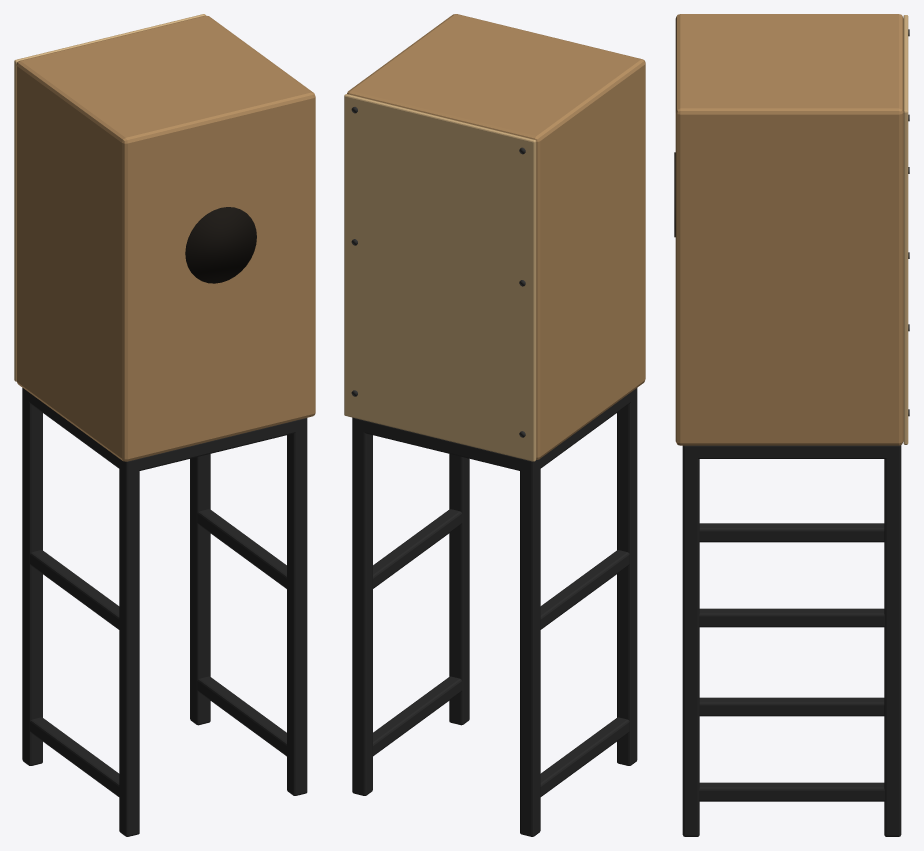
File: cajon.glb
3 views of the same model, side by side, from view 1: azimuth 30°, elevation 25°; view 2: azimuth 150°, elevation 25°; view 3: azimuth 270°, elevation 25° (orthographic). The views are drawn at different scales.
Visible parts, largest first — view 1: Cajon; view 2: Cajon; view 3: Cajon.
Boxes of the visible parts, x1,y1,x2,y2 form: Cajon: (14,14,315,836); Cajon: (344,14,645,836); Cajon: (674,14,909,836).
Bounding box in the file's own units: 0.3 × 1.04 × 0.304.
